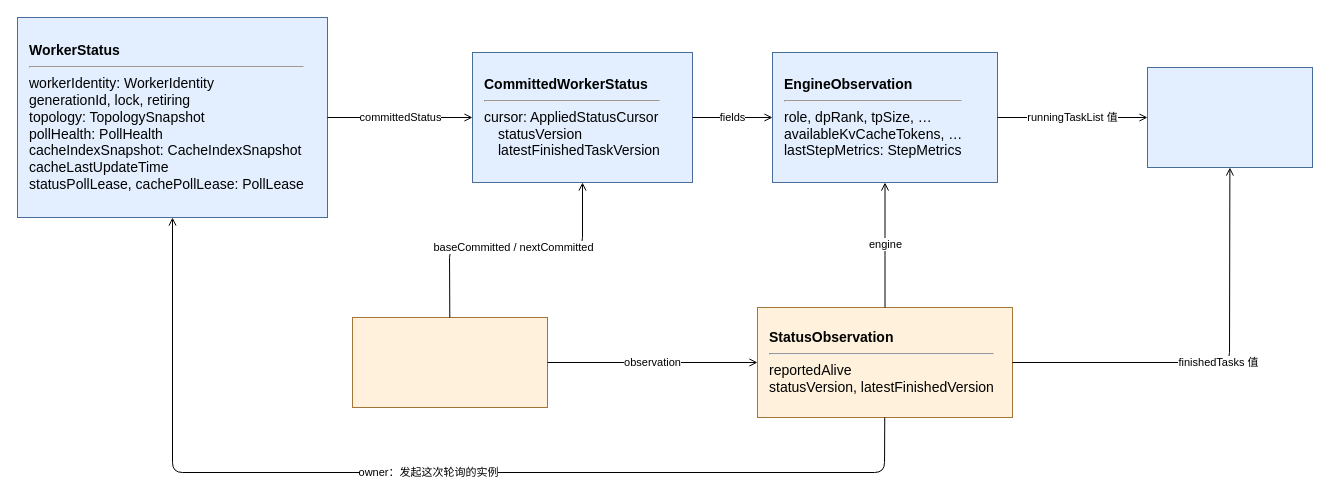
Image size: 1330x498. Some labels were removed from this diagram. Each missing label, with the centre of its shape:
"PreparedStatus 准备提交的一次更新" belongs at point 450,362.
"TaskObservation requestId, phase prefixLength, …" belongs at point 1229,117.
